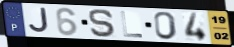0: (152, 11, 178, 41)
4: (183, 12, 209, 43)
6: (54, 7, 81, 37)
J: (27, 7, 51, 35)
L: (119, 10, 145, 38)
S: (88, 8, 118, 38)
